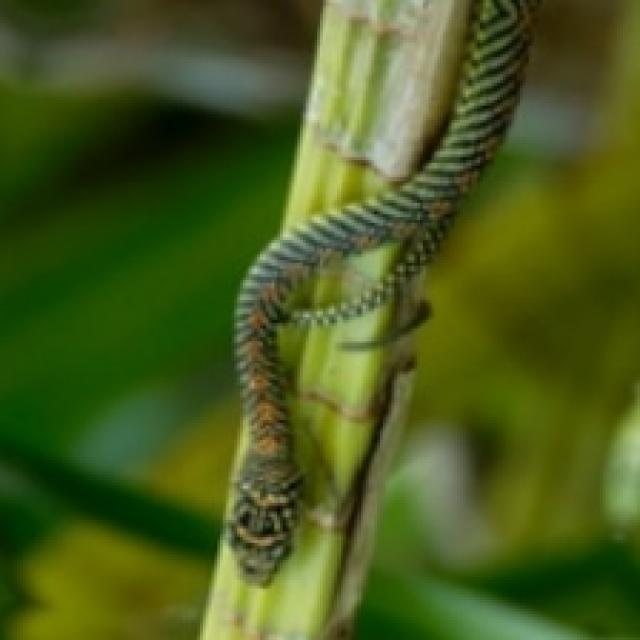paradise tree snake: (228, 0, 533, 584)
